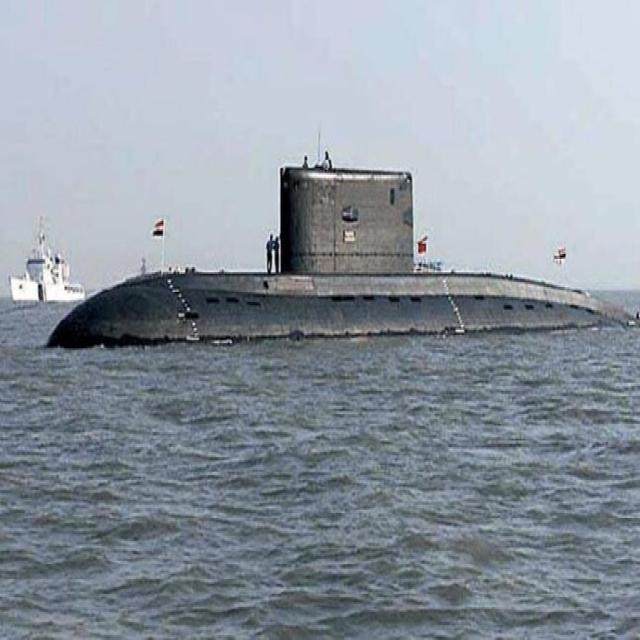Submarine-Sindhughosh-Class-IND: (47, 120, 638, 339)
